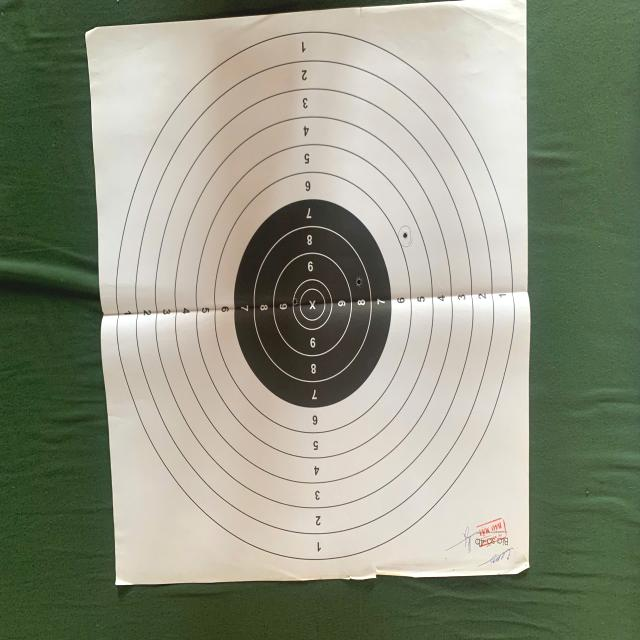bullet: (356, 276, 363, 287), (293, 298, 298, 307), (403, 232, 409, 239)
target: (86, 0, 530, 585)
